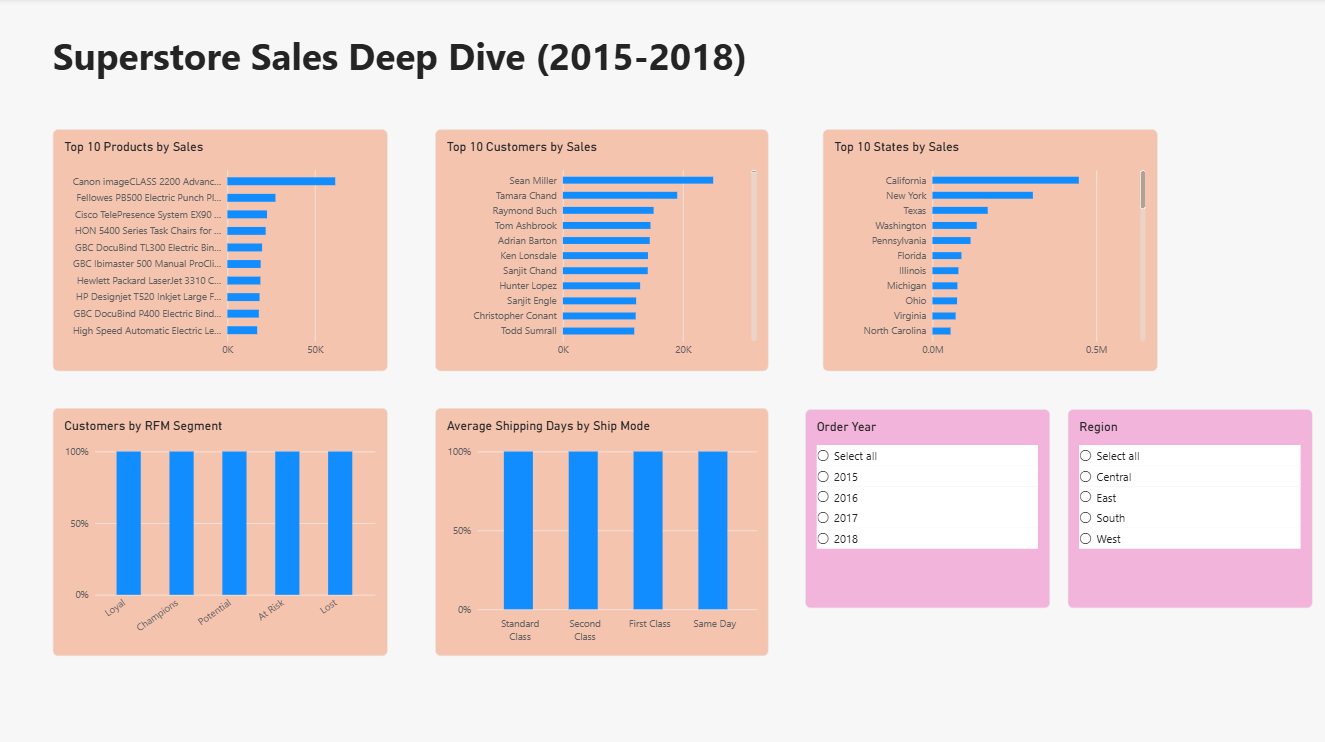

What the dashboard file says about the page in this screenshot:
{"tool":"powerbi","page":{"name":"Deep-Dive","canvas":[1920,1080],"ordinal":1},"visuals":[{"type":"clusteredBarChart","title":"Top 10 Products by Sales","fields":{"Category":["superstore_clean.Product Name"],"Y":["superstore_clean.TOTAL_SALES"]},"box":[77.9,190.4,484.8,350.6],"z":0},{"type":"clusteredBarChart","title":"Top 10 Customers by Sales","fields":{"Category":["superstore_clean.Customer Name"],"Y":["superstore_clean.TOTAL_SALES"]},"box":[631.6,190,482.6,350.6],"z":1},{"type":"clusteredBarChart","title":"Top 10 States by Sales","fields":{"Category":["superstore_clean.State"],"Y":["superstore_clean.TOTAL_SALES"]},"box":[1192.6,190,484.8,350.6],"z":2},{"type":"hundredPercentStackedColumnChart","title":"Customers by RFM Segment","fields":{"Category":["rfm_segments.RFM segment"],"Y":["superstore_clean.TOTAL_CUSTOMERS"]},"box":[77.9,593,484.8,359.2],"z":3},{"type":"hundredPercentStackedColumnChart","title":"Average Shipping Days by Ship Mode","fields":{"Category":["superstore_clean.Ship Mode"],"Y":["superstore_clean.Avg Shipping Days"]},"box":[631.6,593.6,482.6,359.2],"z":4},{"type":"listSlicer","fields":{"Values":["superstore_clean.Order Year"]},"box":[1167.2,595.4,354,288],"z":5},{"type":"listSlicer","fields":{"Values":["superstore_clean.Region"]},"box":[1547.3,595.4,354,288],"z":6},{"type":"textbox","box":[77.8,47.1,1733.7,123.1],"z":7}]}

Visuals, with their boxes in screenshot pixels (x1, y1, x2, y2), scaled from the page's 1920x1080 canvas onto the 1325x742 screenshot:
"Top 10 Products by Sales" clusteredBarChart: rect(54, 131, 388, 372)
"Top 10 Customers by Sales" clusteredBarChart: rect(436, 131, 769, 371)
"Top 10 States by Sales" clusteredBarChart: rect(823, 131, 1158, 371)
"Customers by RFM Segment" hundredPercentStackedColumnChart: rect(54, 407, 388, 654)
"Average Shipping Days by Ship Mode" hundredPercentStackedColumnChart: rect(436, 408, 769, 655)
listSlicer - superstore_clean.Order Year: rect(805, 409, 1050, 607)
listSlicer - superstore_clean.Region: rect(1068, 409, 1312, 607)
textbox: rect(54, 32, 1250, 117)
